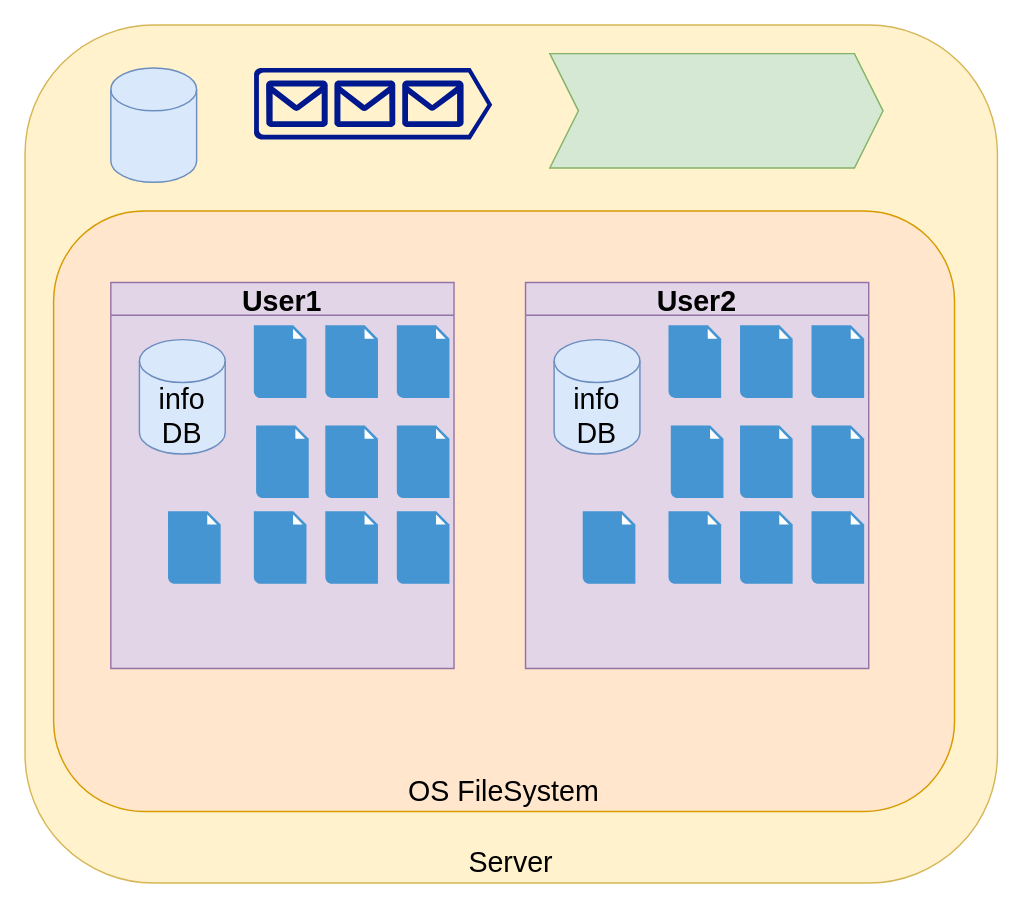
Image size: 1022x908. Some labels were removed from this diagram. Each missing label, with the centre of its shape:
grpc Server: the point at 715,110
main DB: the point at 153,124
User Login Queue: the point at 372,103
